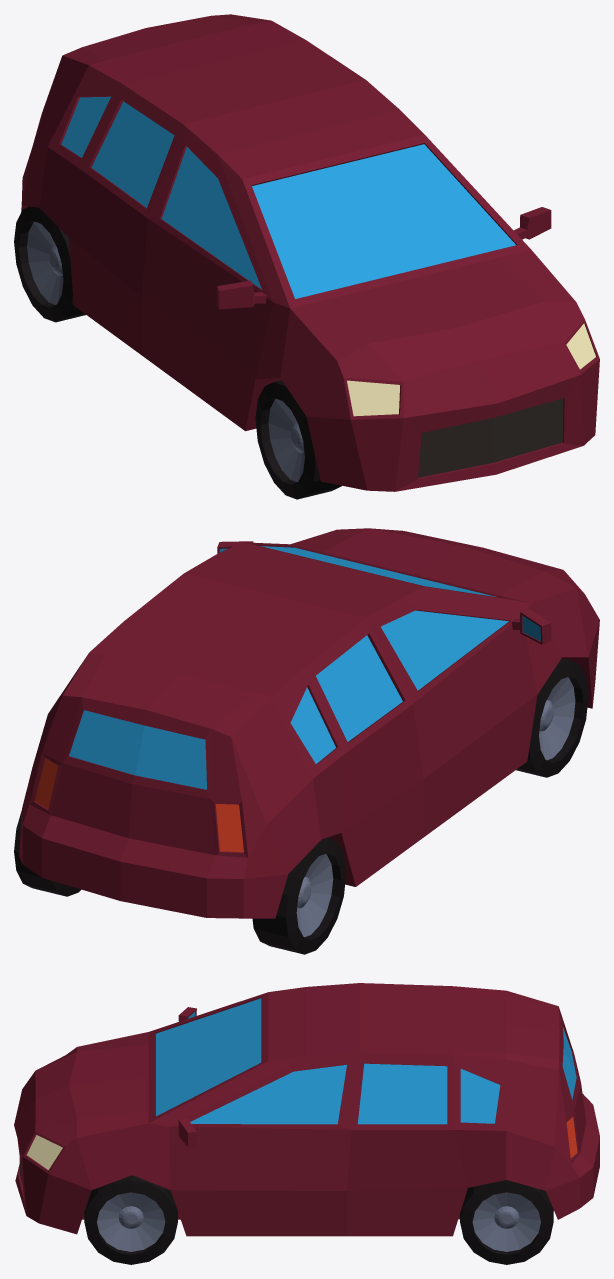
Rendered from Car002.fbx.
3 renders of one model, top to bottom at view 1: azimuth 30°, elevation 25°; view 2: azimuth 150°, elevation 25°; view 3: azimuth 270°, elevation 25°, orthographic. The views are drawn at different scales.
Parts seen in each view (by area): view 1: Lacquer, Cube, FrontRightTire, BackTires; view 2: Lacquer, Cube, BackTires, FrontRightTire; view 3: Lacquer, Cube, FrontLeftTire, BackTires.
Part boxes in pixels (bbox=[...]): Lacquer: bbox=[21, 14, 599, 491]; Cube: bbox=[61, 96, 595, 477]; FrontRightTire: bbox=[255, 380, 341, 499]; BackTires: bbox=[14, 206, 85, 322]; Lacquer: bbox=[19, 528, 599, 918]; Cube: bbox=[35, 546, 540, 852]; BackTires: bbox=[14, 811, 346, 954]; FrontRightTire: bbox=[516, 658, 588, 777]; Lacquer: bbox=[14, 983, 599, 1236]; Cube: bbox=[19, 998, 577, 1183]; FrontLeftTire: bbox=[84, 1175, 177, 1264]; BackTires: bbox=[460, 1180, 553, 1264].
Size of the model in its own units: 137 by 99.74 by 271.
